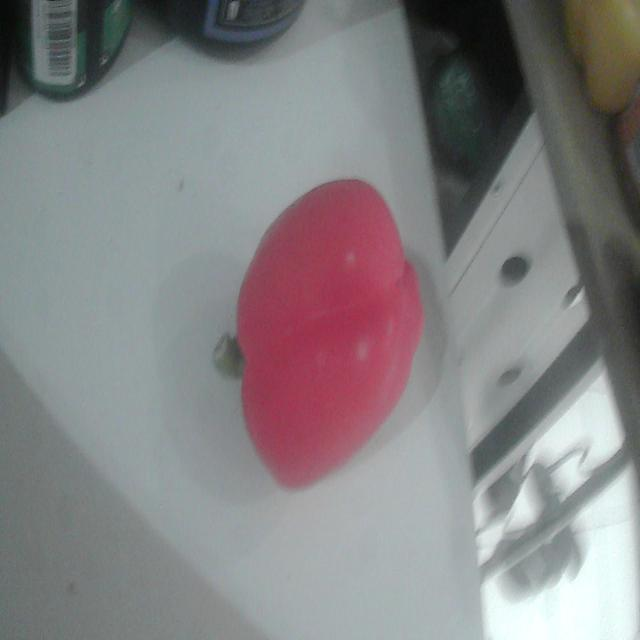Bell Pepper: (238, 180, 424, 488)
